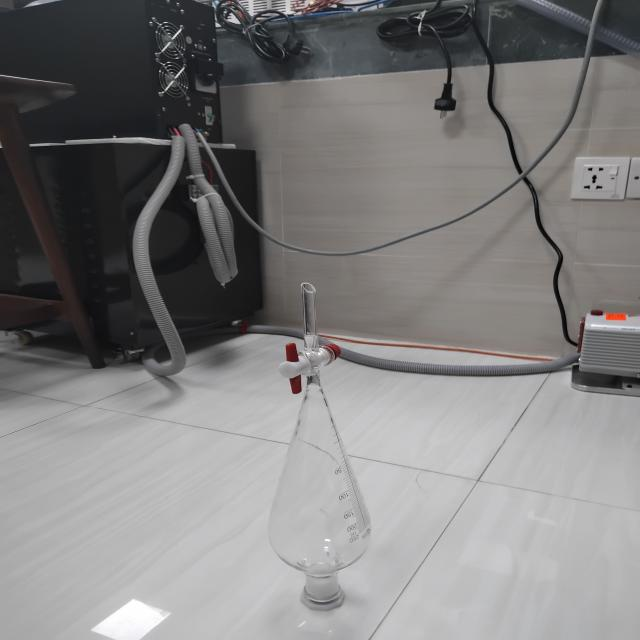Separating_Funnel: (229, 253, 412, 625)
